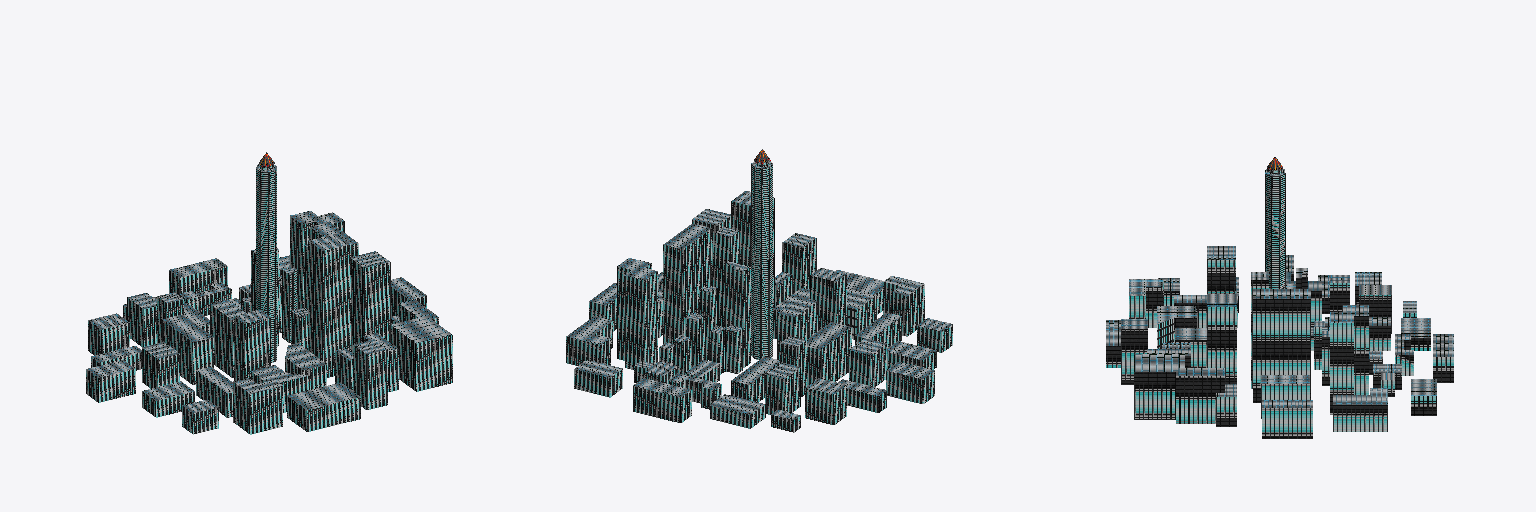
3 views of the same model, side by side, from view 1: azimuth 30°, elevation 25°; view 2: azimuth 150°, elevation 25°; view 3: azimuth 270°, elevation 25° (orthographic).
Parts seen in each view (by area): view 1: SketchUp_038_ID236.001_Green.002, SketchUp_038_ID236.001_black.002, SketchUp_038_ID236.001_Green.000; view 2: SketchUp_038_ID236.001_Green.002, SketchUp_038_ID236.001_black.002, SketchUp_038_ID236.001_Green.000; view 3: SketchUp_038_ID236.001_Green.002, SketchUp_038_ID236.001_black.002, SketchUp_038_ID236.001_Green.000.
Boxes of the visible parts, box(x1,y1,x2,y2) form: SketchUp_038_ID236.001_Green.002: box(86, 166, 452, 434); SketchUp_038_ID236.001_black.002: box(87, 165, 451, 412); SketchUp_038_ID236.001_Green.000: box(256, 169, 276, 362); SketchUp_038_ID236.001_Green.002: box(566, 162, 952, 432); SketchUp_038_ID236.001_black.002: box(567, 161, 951, 419); SketchUp_038_ID236.001_Green.000: box(751, 164, 772, 359); SketchUp_038_ID236.001_Green.002: box(1106, 170, 1453, 438); SketchUp_038_ID236.001_black.002: box(1106, 169, 1453, 407); SketchUp_038_ID236.001_Green.000: box(1265, 173, 1285, 288).
Size of the model in its own units: 83.2 by 50.77 by 77.33.
Materials: 4 (3 with a texture image).